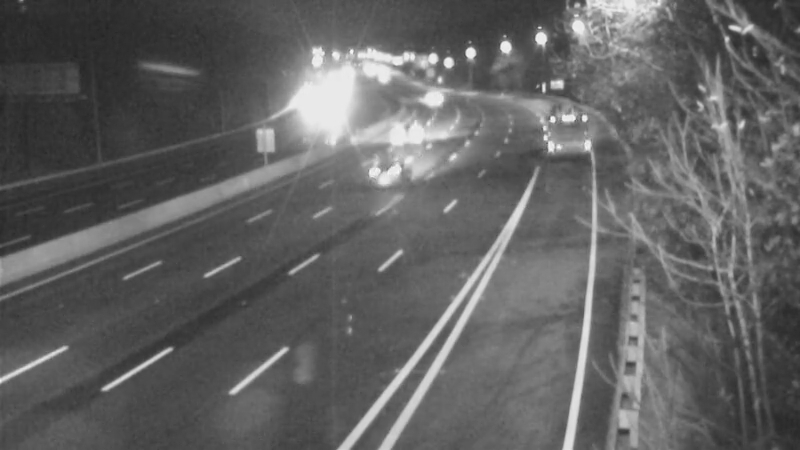vehicle: (353, 132, 433, 212), (405, 69, 455, 119), (538, 104, 588, 154), (389, 109, 439, 159)
